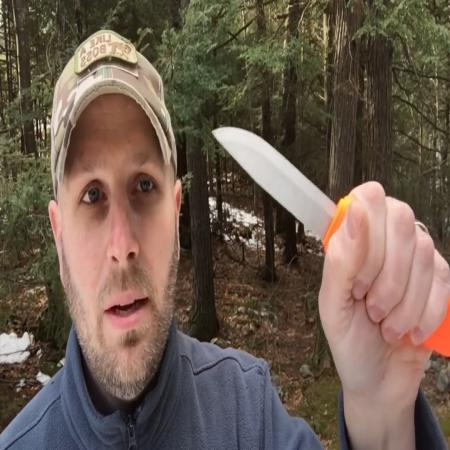long weapon: (204, 114, 416, 316)
